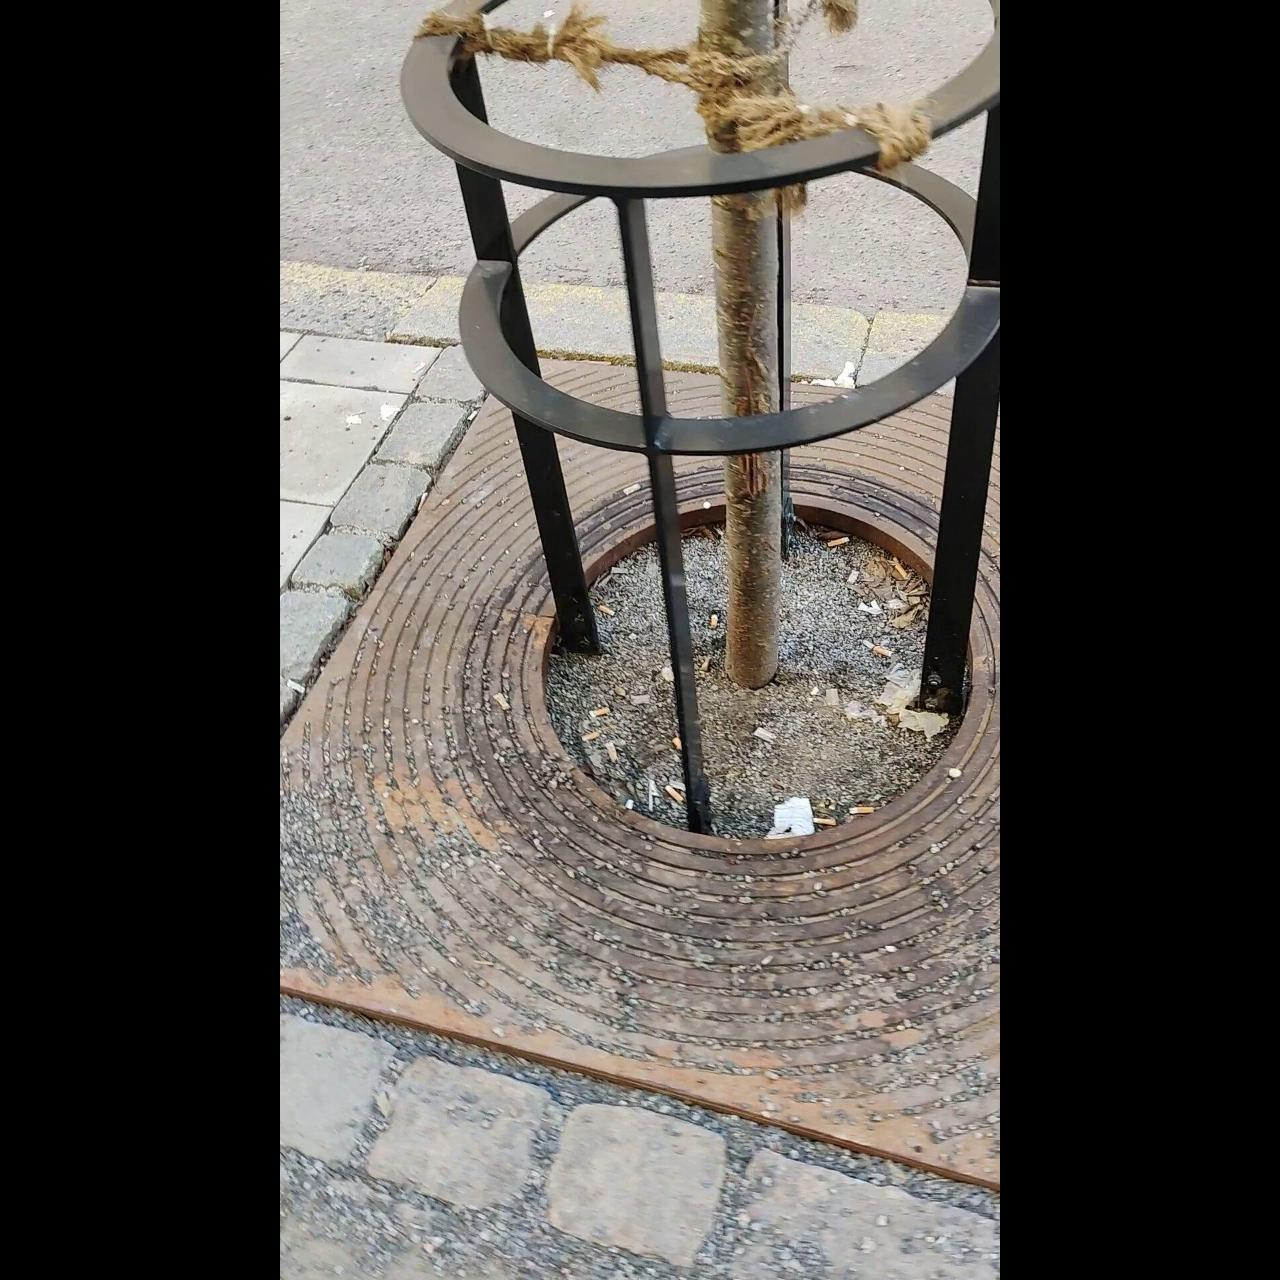cigarettes_butts: (667, 786, 683, 806), (846, 806, 876, 816), (416, 492, 430, 512), (827, 537, 849, 549), (606, 741, 620, 759), (876, 644, 896, 656), (812, 816, 834, 826), (848, 805, 874, 813), (590, 708, 610, 718), (896, 559, 906, 577), (582, 732, 598, 742), (674, 732, 682, 752), (709, 614, 717, 630), (602, 606, 616, 614)
others: (622, 480, 642, 496), (755, 726, 773, 742), (286, 679, 302, 692), (495, 694, 509, 708)
